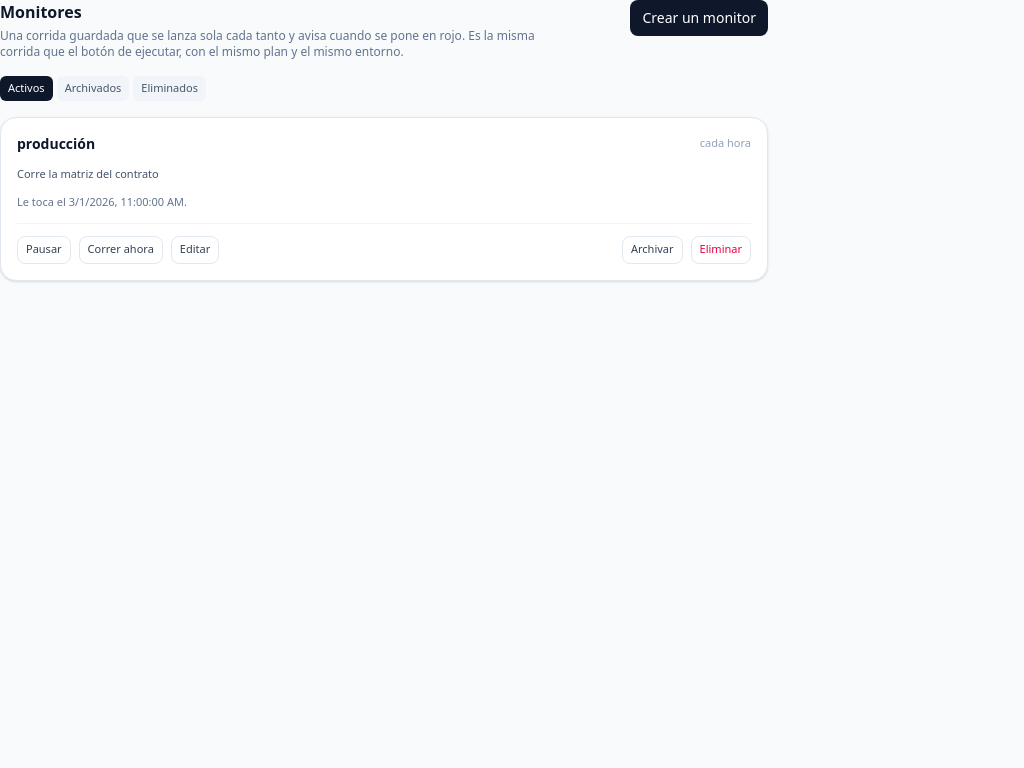
los tres filtros de los monitores › archivar desde el diálogo de borrado, y un fallo al archivar se dice
Step 1. Click the button "Eliminar" → click(721, 250), box x1=691 y1=236 x2=751 y2=264
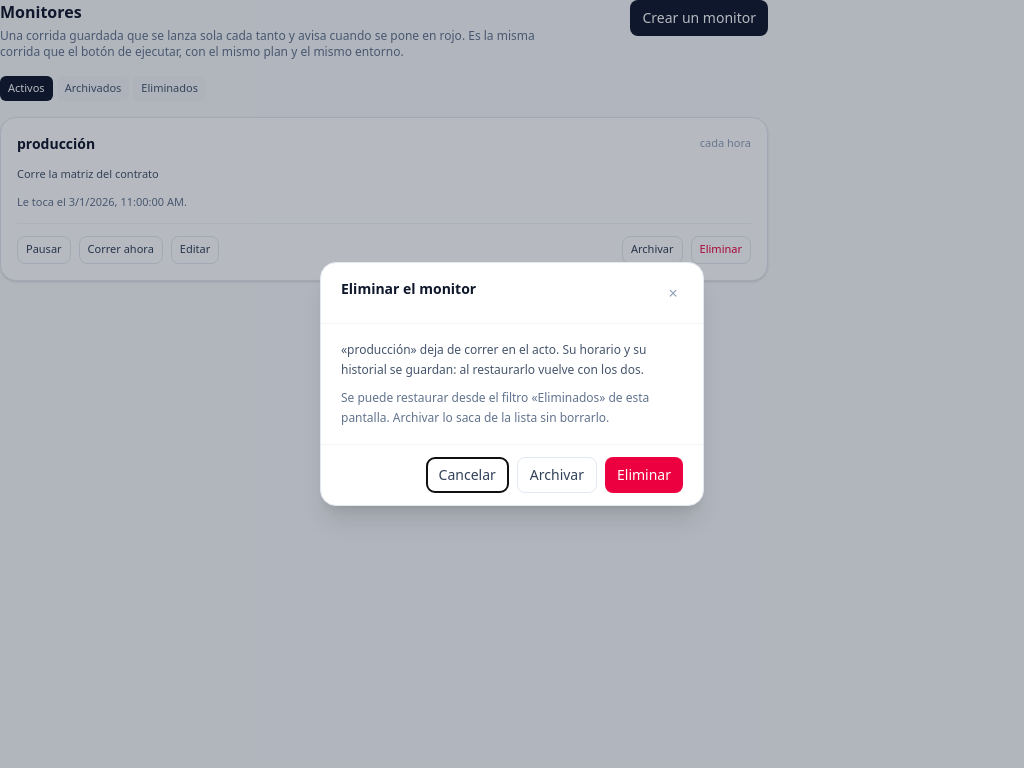
Step 2. Click the button "Archivar" → click(557, 475), box x1=517 y1=457 x2=597 y2=493
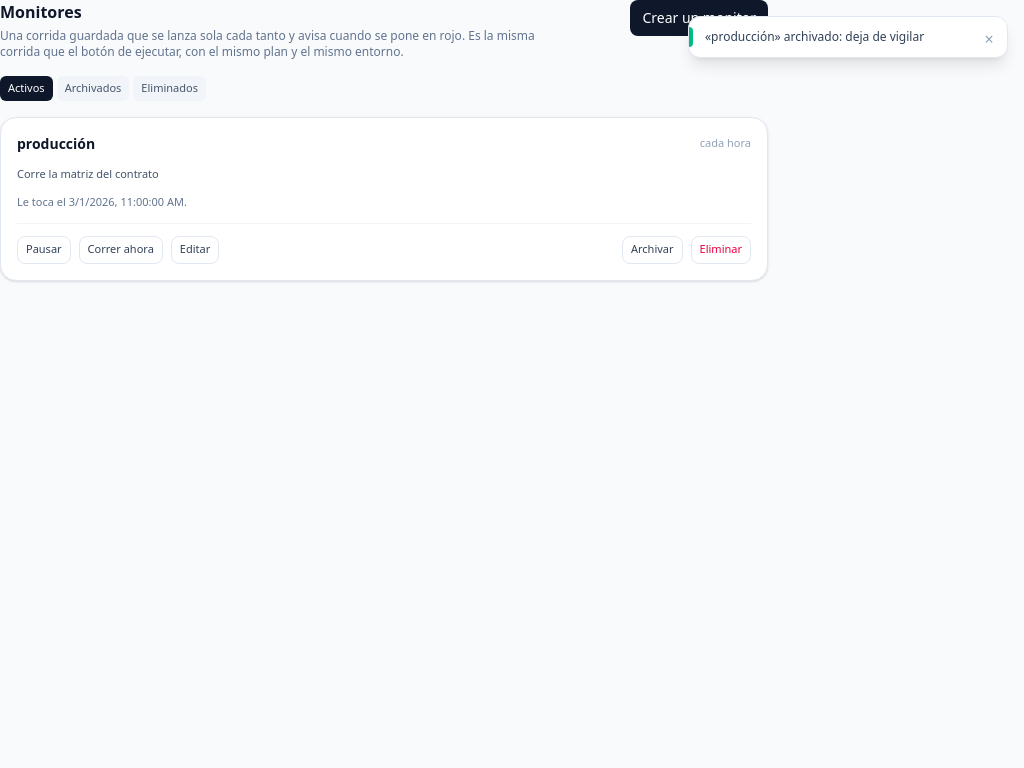
Step 3. Click the button "Archivar" → click(652, 250), box x1=622 y1=236 x2=683 y2=264
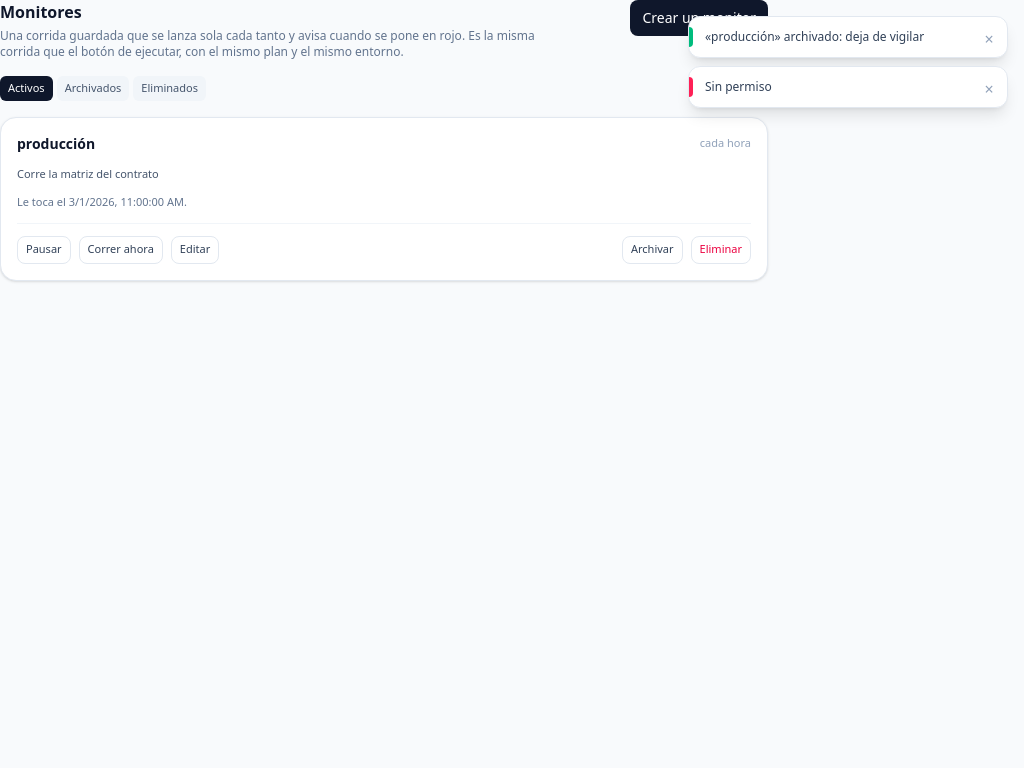
Check: the text "Sin permiso" is shown, box x1=705 y1=78 x2=772 y2=95
